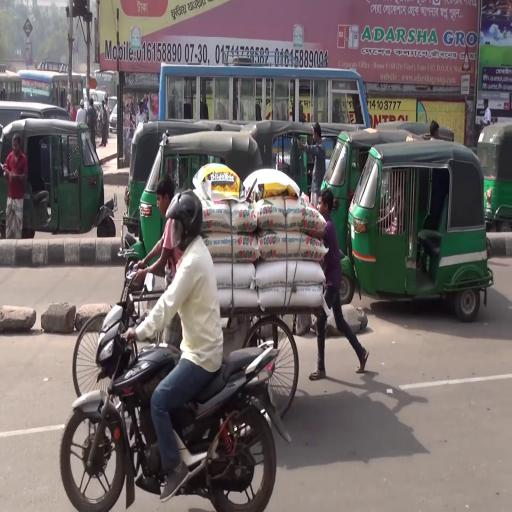bus: (157, 55, 377, 160), (20, 62, 85, 129), (1, 67, 23, 107), (95, 66, 117, 97)
car: (109, 102, 119, 133)
motorbike: (61, 300, 283, 512)
three wheelers (CNG): (339, 142, 494, 328), (128, 131, 263, 277), (126, 120, 244, 259), (2, 117, 119, 251), (316, 129, 423, 265), (242, 118, 322, 221), (306, 117, 368, 222), (477, 118, 512, 234), (378, 114, 457, 161)
van: (2, 92, 79, 140)
wheelbarrow: (67, 242, 324, 437)
